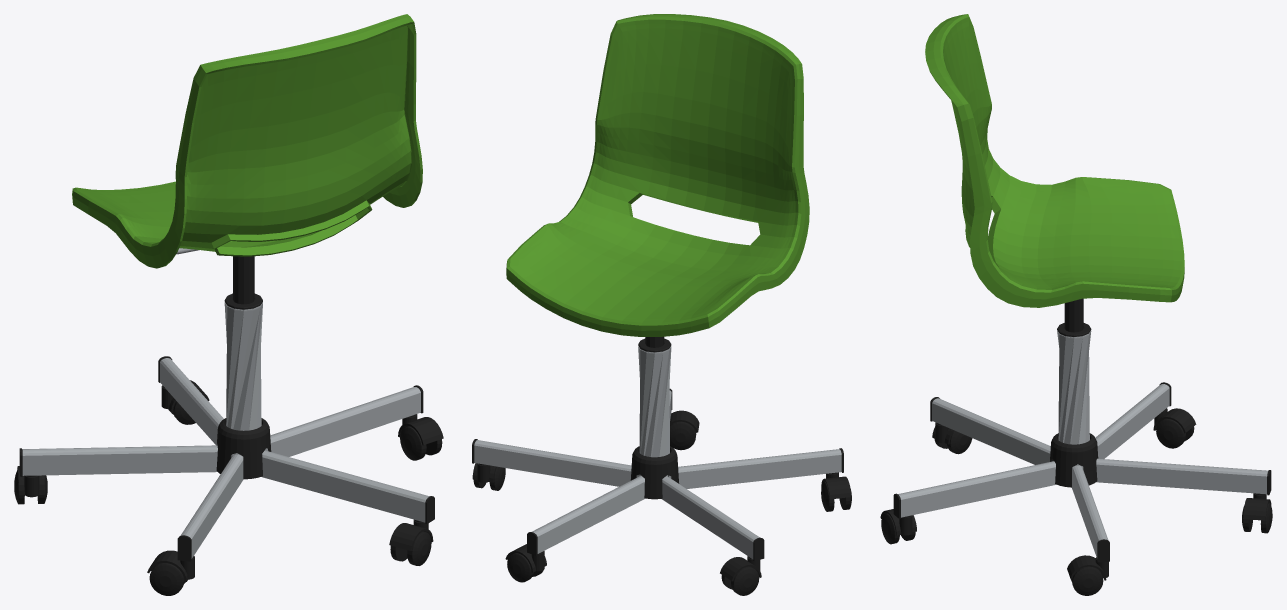
3 renders of one model, left to right at view 1: azimuth 30°, elevation 25°; view 2: azimuth 150°, elevation 25°; view 3: azimuth 270°, elevation 25°, orthographic. The views are drawn at different scales.
Visible parts, largest first — view 1: Mesh2 Group2 SNILLE_IKEA1 Model, Mesh8 Group6 SNILLE_IKEA1 Model, Mesh7 Group5 SNILLE_IKEA1 Model, Mesh1 Group1 SNILLE_IKEA1 Model, Mesh3 Group3 SNILLE_IKEA1 Model, Mesh14 ROULETTE2 SNILLE_IKEA1 Model, Mesh21 ROULETTE5 SNILLE_IKEA1 Model, Mesh15 ROULETTE3 SNILLE_IKEA1 Model, Mesh22 ROULETTE5 SNILLE_IKEA1 Model, Mesh12 ROULETTE2 SNILLE_IKEA1 Model, Mesh17 ROULETTE3 SNILLE_IKEA1 Model, Mesh18 ROULETTE4 SNILLE_IKEA1 Model; view 2: Mesh2 Group2 SNILLE_IKEA1 Model, Mesh8 Group6 SNILLE_IKEA1 Model, Mesh7 Group5 SNILLE_IKEA1 Model, Mesh1 Group1 SNILLE_IKEA1 Model, Mesh16 ROULETTE3 SNILLE_IKEA1 Model, Mesh20 ROULETTE4 SNILLE_IKEA1 Model, Mesh12 ROULETTE2 SNILLE_IKEA1 Model, Mesh11 ROULETTE1 SNILLE_IKEA1 Model, Mesh18 ROULETTE4 SNILLE_IKEA1 Model; view 3: Mesh2 Group2 SNILLE_IKEA1 Model, Mesh8 Group6 SNILLE_IKEA1 Model, Mesh7 Group5 SNILLE_IKEA1 Model, Mesh1 Group1 SNILLE_IKEA1 Model, Mesh3 Group3 SNILLE_IKEA1 Model, Mesh23 ROULETTE5 SNILLE_IKEA1 Model, Mesh19 ROULETTE4 SNILLE_IKEA1 Model, Mesh9 ROULETTE1 SNILLE_IKEA1 Model, Mesh18 ROULETTE4 SNILLE_IKEA1 Model, Mesh21 ROULETTE5 SNILLE_IKEA1 Model.
Boxes of the visible parts, x1,y1,x2,y2 form: Mesh2 Group2 SNILLE_IKEA1 Model: (72, 14, 422, 268); Mesh8 Group6 SNILLE_IKEA1 Model: (19, 356, 434, 561); Mesh7 Group5 SNILLE_IKEA1 Model: (224, 302, 262, 430); Mesh1 Group1 SNILLE_IKEA1 Model: (216, 418, 271, 479); Mesh3 Group3 SNILLE_IKEA1 Model: (224, 256, 262, 309); Mesh14 ROULETTE2 SNILLE_IKEA1 Model: (149, 563, 184, 595); Mesh21 ROULETTE5 SNILLE_IKEA1 Model: (398, 414, 443, 445); Mesh15 ROULETTE3 SNILLE_IKEA1 Model: (389, 519, 433, 550); Mesh22 ROULETTE5 SNILLE_IKEA1 Model: (400, 426, 426, 460); Mesh12 ROULETTE2 SNILLE_IKEA1 Model: (147, 550, 194, 581); Mesh17 ROULETTE3 SNILLE_IKEA1 Model: (407, 531, 431, 565); Mesh18 ROULETTE4 SNILLE_IKEA1 Model: (17, 466, 44, 497); Mesh2 Group2 SNILLE_IKEA1 Model: (506, 14, 809, 336); Mesh8 Group6 SNILLE_IKEA1 Model: (472, 388, 843, 561); Mesh7 Group5 SNILLE_IKEA1 Model: (638, 346, 671, 457); Mesh1 Group1 SNILLE_IKEA1 Model: (630, 446, 679, 499); Mesh16 ROULETTE3 SNILLE_IKEA1 Model: (670, 421, 696, 450); Mesh20 ROULETTE4 SNILLE_IKEA1 Model: (731, 566, 759, 595); Mesh12 ROULETTE2 SNILLE_IKEA1 Model: (821, 472, 851, 499); Mesh11 ROULETTE1 SNILLE_IKEA1 Model: (507, 553, 533, 582); Mesh18 ROULETTE4 SNILLE_IKEA1 Model: (720, 556, 761, 581); Mesh2 Group2 SNILLE_IKEA1 Model: (925, 14, 1184, 307); Mesh8 Group6 SNILLE_IKEA1 Model: (893, 382, 1271, 562); Mesh7 Group5 SNILLE_IKEA1 Model: (1057, 330, 1091, 444); Mesh1 Group1 SNILLE_IKEA1 Model: (1050, 433, 1098, 487); Mesh3 Group3 SNILLE_IKEA1 Model: (1057, 298, 1091, 336); Mesh23 ROULETTE5 SNILLE_IKEA1 Model: (1072, 566, 1103, 595); Mesh19 ROULETTE4 SNILLE_IKEA1 Model: (1156, 418, 1185, 448); Mesh9 ROULETTE1 SNILLE_IKEA1 Model: (1243, 493, 1271, 520); Mesh18 ROULETTE4 SNILLE_IKEA1 Model: (1153, 408, 1196, 433); Mesh21 ROULETTE5 SNILLE_IKEA1 Model: (1067, 555, 1108, 580).
Size of the model in its own units: 0.5832 by 0.7766 by 0.5969.
